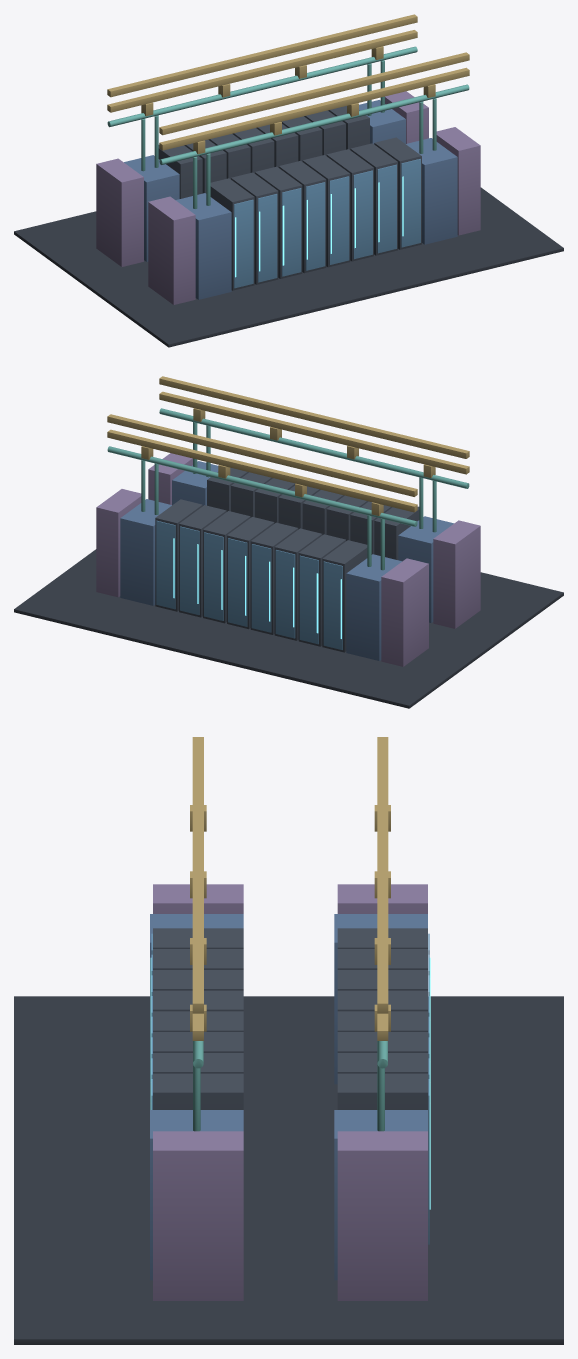
Rendered from gb300-nvl72.glb.
3 renders of one model, top to bottom at view 1: azimuth 30°, elevation 25°; view 2: azimuth 150°, elevation 25°; view 3: azimuth 270°, elevation 25°, orthographic. The views are drawn at different scales.
Visible parts, largest first — view 1: floor, fabric-A1, fabric-B1, cdu-A1, cdu-A2, busway-A2, busway-B2, busway-A1, busway-B1, fabric-A2, tcs-main-B, tcs-main-A (+27 smaller); view 2: floor, fabric-A1, fabric-B1, cdu-B1, cdu-B2, busway-A1, busway-B2, busway-A2, busway-B1, fabric-B2, tcs-main-B, tcs-main-A (+27 smaller); view 3: floor, fabric-A2, fabric-B2, busway-A2, busway-B2, rack-A8, rack-B8, cdu-B2, cdu-A2, fabric-B1, fabric-A1, cdu-B1 (+15 smaller).
Part boxes in pixels (bbox=[...]): floor: bbox=[14, 187, 563, 347]; fabric-A1: bbox=[148, 196, 195, 304]; fabric-B1: bbox=[96, 158, 143, 266]; cdu-A1: bbox=[175, 193, 231, 299]; cdu-A2: bbox=[406, 138, 457, 244]; busway-A2: bbox=[159, 52, 469, 135]; busway-B2: bbox=[107, 14, 417, 97]; busway-A1: bbox=[159, 67, 469, 150]; busway-B1: bbox=[107, 30, 417, 112]; fabric-A2: bbox=[436, 127, 480, 235]; tcs-main-B: bbox=[107, 46, 417, 127]; tcs-main-A: bbox=[159, 84, 469, 164]; floor: bbox=[14, 549, 563, 708]; fabric-A1: bbox=[433, 520, 480, 628]; fabric-B1: bbox=[381, 558, 428, 666]; cdu-B1: bbox=[346, 554, 401, 660]; cdu-B2: bbox=[120, 499, 171, 605]; busway-A1: bbox=[159, 391, 469, 474]; busway-B2: bbox=[107, 414, 417, 496]; busway-A2: bbox=[159, 376, 469, 458]; busway-B1: bbox=[107, 429, 417, 512]; fabric-B2: bbox=[96, 489, 141, 597]; tcs-main-B: bbox=[107, 446, 417, 526]; tcs-main-A: bbox=[159, 408, 469, 488]; floor: bbox=[14, 996, 563, 1344]; fabric-A2: bbox=[153, 1131, 243, 1300]; fabric-B2: bbox=[337, 1131, 427, 1300]; busway-A2: bbox=[192, 737, 203, 1013]; busway-B2: bbox=[377, 737, 388, 1013]; rack-A8: bbox=[153, 1073, 243, 1109]; rack-B8: bbox=[337, 1073, 427, 1109]; cdu-B2: bbox=[334, 1110, 427, 1280]; cdu-A2: bbox=[150, 1110, 243, 1280]; fabric-B1: bbox=[337, 884, 427, 913]; fabric-A1: bbox=[153, 884, 243, 913]; cdu-B1: bbox=[334, 914, 427, 1084].
Size of the model in its own units: 10.75 by 4.43 by 7.29.
